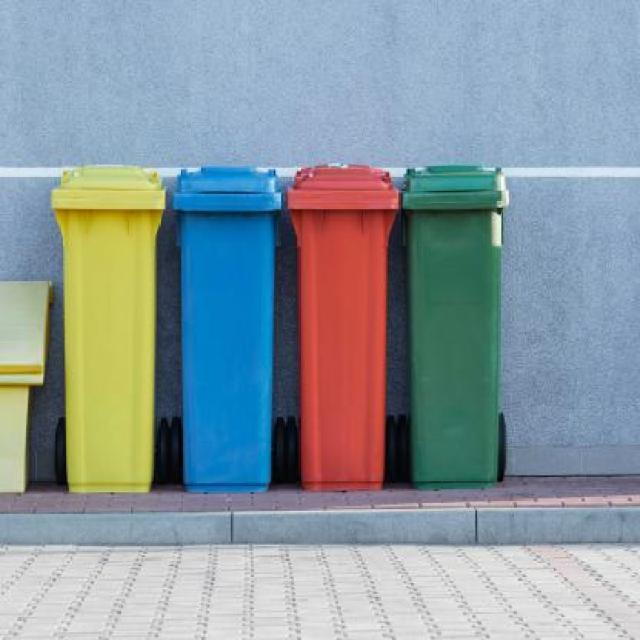garbage container: (49, 157, 171, 500), (399, 160, 521, 499), (287, 155, 404, 497), (170, 160, 286, 503)
